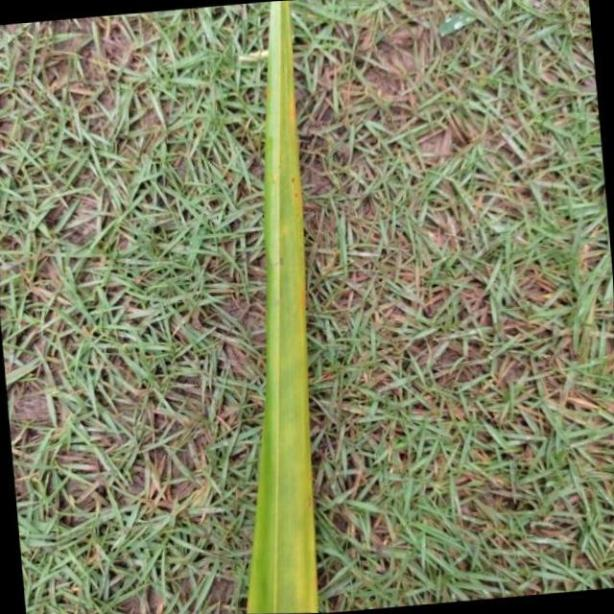nitrogen: (243, 0, 318, 614)
